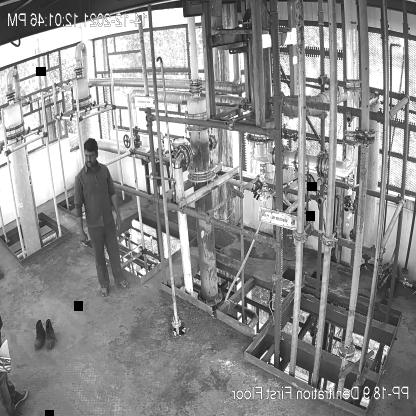no_shoes: (114, 278, 130, 288), (101, 286, 111, 300)
shoes: (42, 318, 56, 350), (33, 320, 45, 349)
